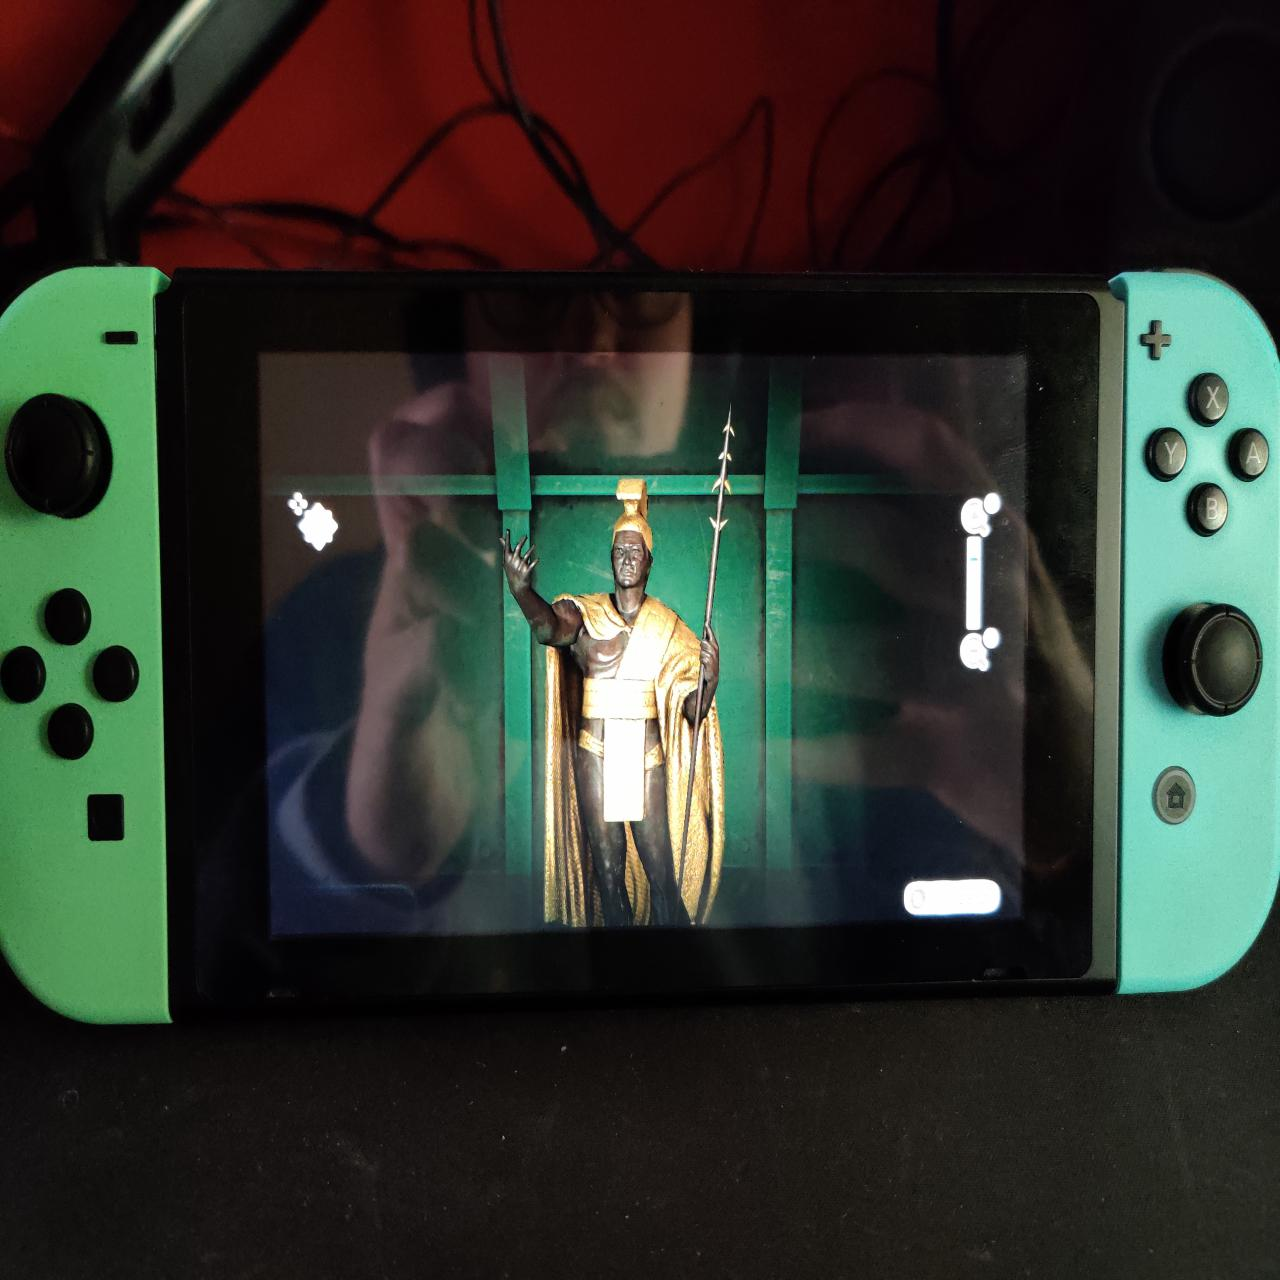Kamehameha: (488, 392, 757, 930)
